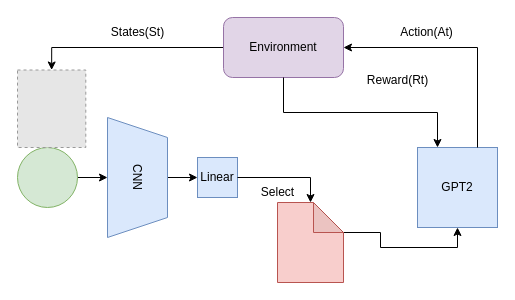
This 515x300 diagram has some shape labels left out. Grey dashed boxes stand in for pictures. Here are the shapes that lost their labels. From the top down, the centre of each, then its label:
At pixel 47 177: "Image".
At pixel 310 242: "Action Prompt".
